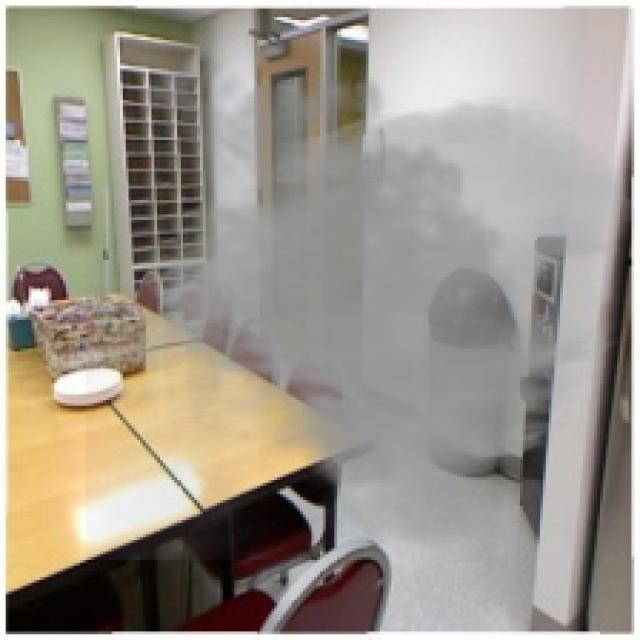smoke: (86, 40, 637, 563)
